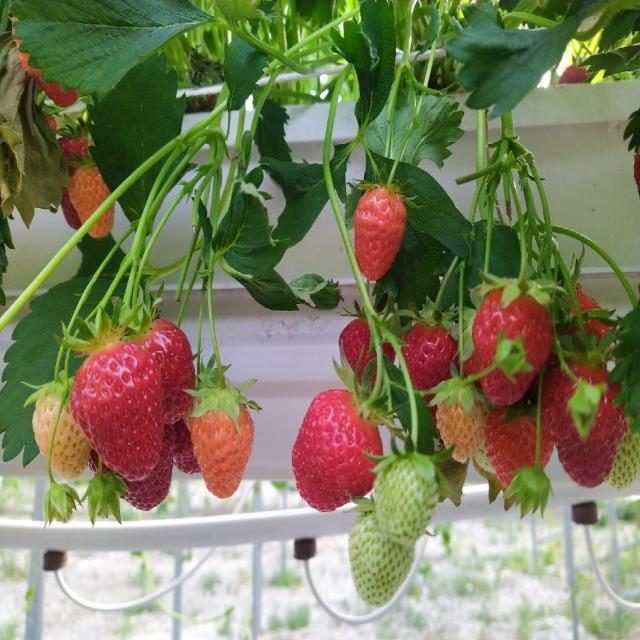ripe: (74, 348, 162, 478), (465, 286, 551, 412), (292, 394, 380, 514), (548, 364, 622, 494), (136, 323, 194, 425), (92, 440, 174, 510), (484, 404, 544, 492), (403, 322, 455, 418), (351, 187, 404, 281), (337, 316, 395, 399), (161, 415, 206, 475), (59, 142, 82, 228), (463, 343, 492, 393), (634, 146, 640, 208)
